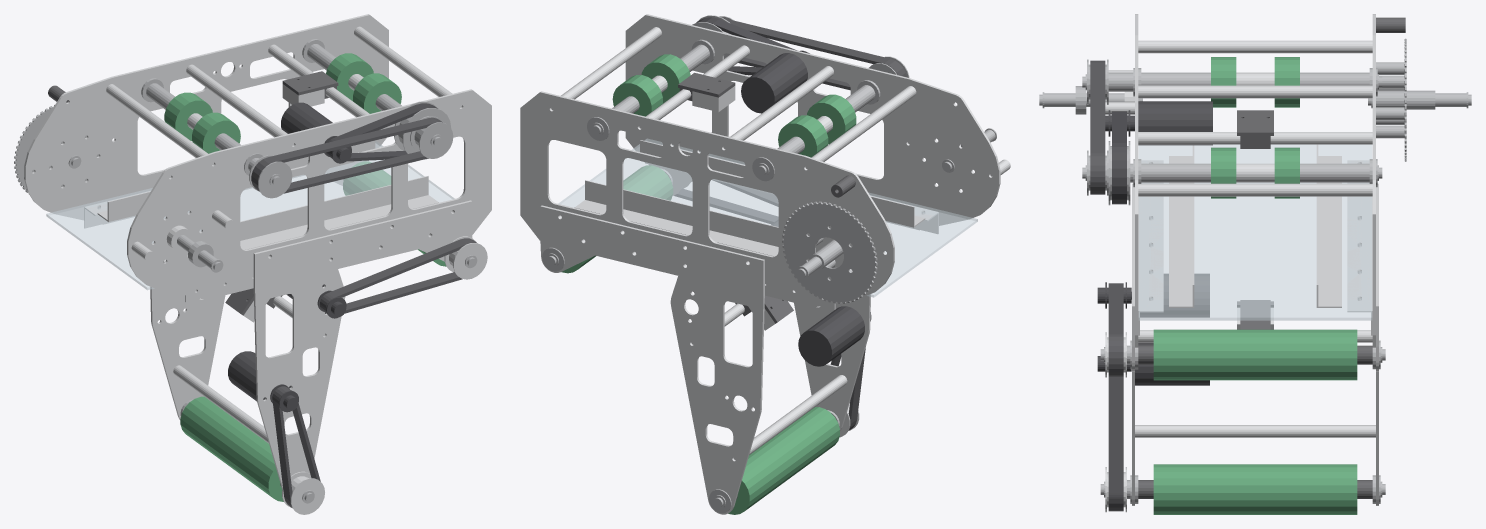
The picture shows the model from 3 angles, left to right: view 1: azimuth 30°, elevation 25°; view 2: azimuth 150°, elevation 25°; view 3: azimuth 270°, elevation 25°; orthographic projection. The views are drawn at different scales.
Bounding box in the file's own units: 0.4846 × 0.4807 × 0.4313.
